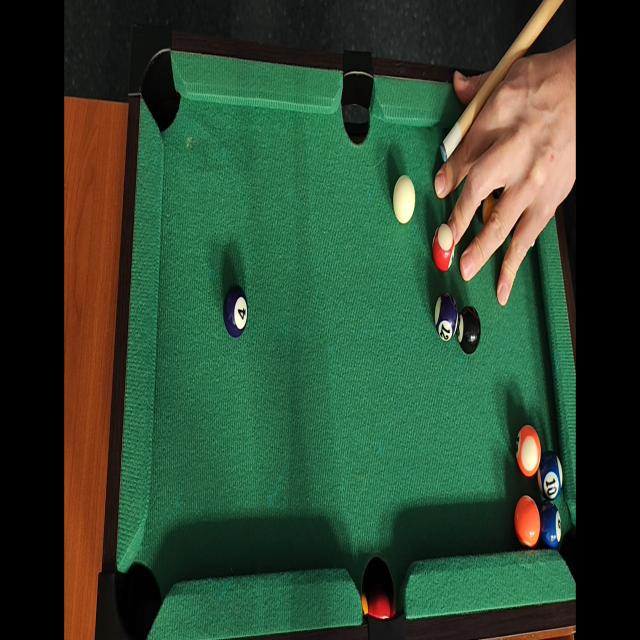cue ball: (392, 174, 414, 225)
other: (533, 498, 563, 556), (512, 493, 539, 553), (513, 421, 541, 476), (534, 448, 563, 501), (454, 302, 482, 356), (431, 292, 458, 347), (222, 281, 248, 336), (431, 220, 455, 272)
